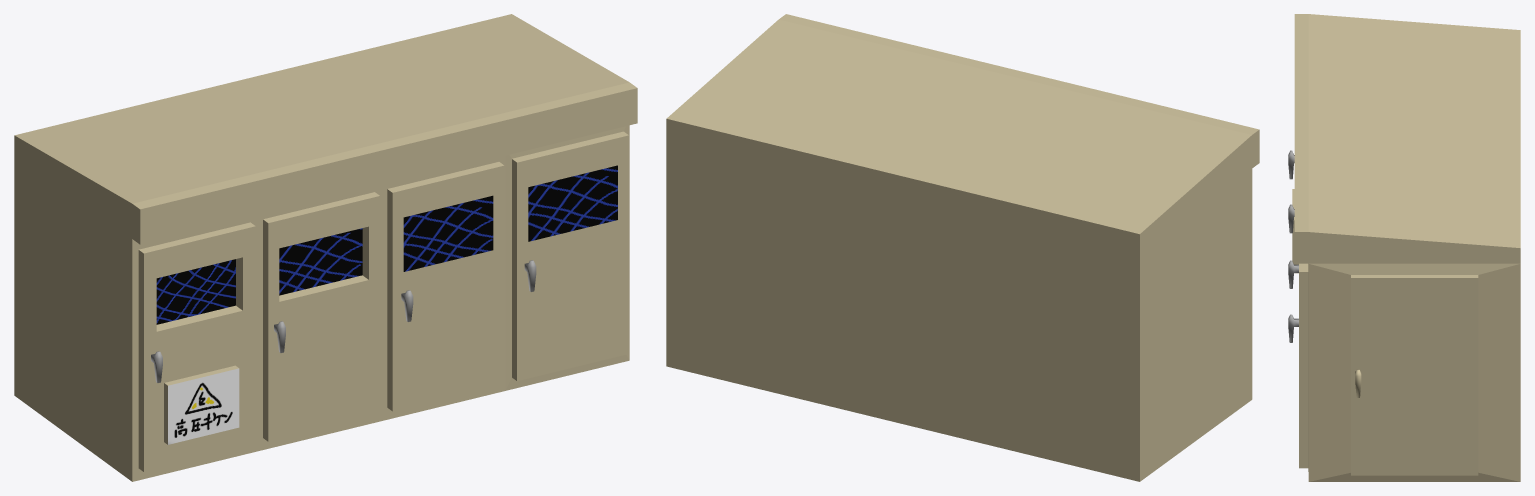
File: HV_Cubicle.glb
The picture shows the model from 3 angles, left to right: view 1: azimuth 30°, elevation 25°; view 2: azimuth 150°, elevation 25°; view 3: azimuth 270°, elevation 25°; orthographic projection. The views are drawn at different scales.
Visible parts, largest first — view 1: Cube; view 2: Cube; view 3: Cube.
Part boxes in pixels (left/top/right/bottom): Cube: left=14, top=14, right=637, bottom=481; Cube: left=666, top=14, right=1259, bottom=481; Cube: left=1288, top=14, right=1520, bottom=481.
Bounding box in the file's own units: 3.12 × 1.6 × 1.35.
Materials: 4 (2 with a texture image).
